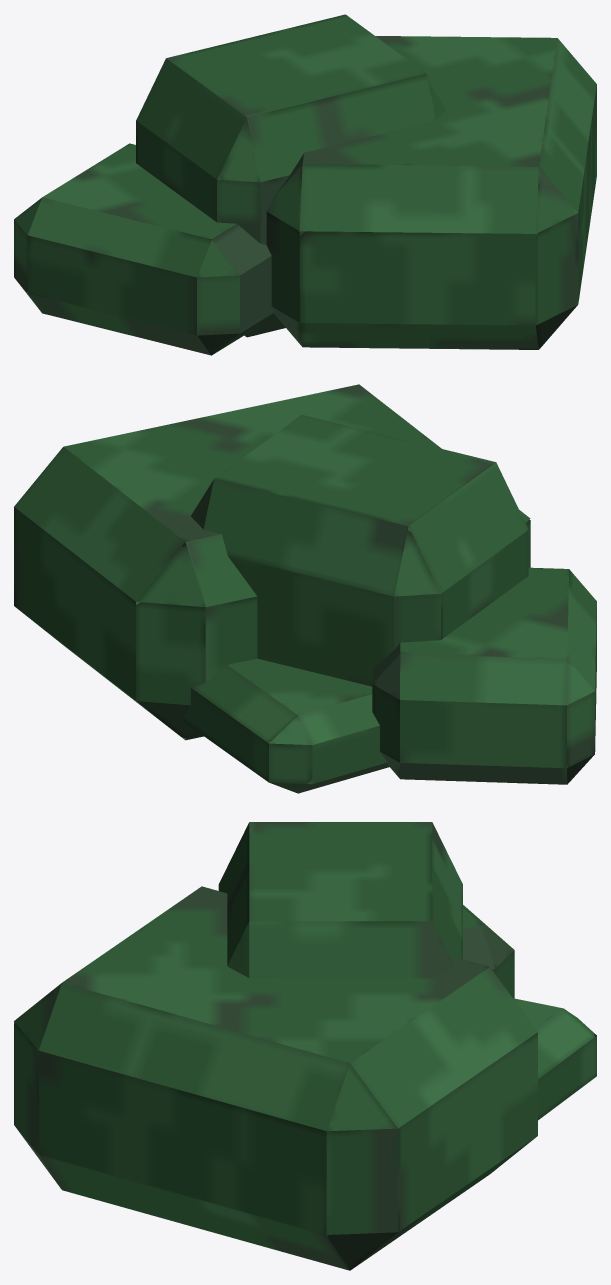
Rendered from bush2.fbx.
3 renders of one model, top to bottom at view 1: azimuth 30°, elevation 25°; view 2: azimuth 150°, elevation 25°; view 3: azimuth 270°, elevation 25°, orthographic. The views are drawn at different scales.
Parts seen in each view (by area): view 1: beveled_cuboid_2, beveled_cuboid, beveled_cuboid_1; view 2: beveled_cuboid, beveled_cuboid_2, beveled_cuboid_1, beveled_cuboid_3; view 3: beveled_cuboid_2, beveled_cuboid, beveled_cuboid_3, beveled_cuboid_1.
Boxes of the visible parts, x1,y1,x2,y2 form: beveled_cuboid_2: (266, 36, 596, 349); beveled_cuboid: (136, 14, 447, 337); beveled_cuboid_1: (14, 143, 274, 355); beveled_cuboid: (181, 415, 528, 686); beveled_cuboid_2: (14, 384, 530, 740); beveled_cuboid_1: (372, 567, 596, 784); beveled_cuboid_3: (183, 658, 389, 793); beveled_cuboid_2: (14, 886, 537, 1270); beveled_cuboid: (218, 822, 462, 978); beveled_cuboid_3: (513, 998, 596, 1120); beveled_cuboid_1: (463, 905, 514, 998).
Bounding box in the file's own units: 289 × 114 × 239.
Materials: 1 (1 with a texture image).
